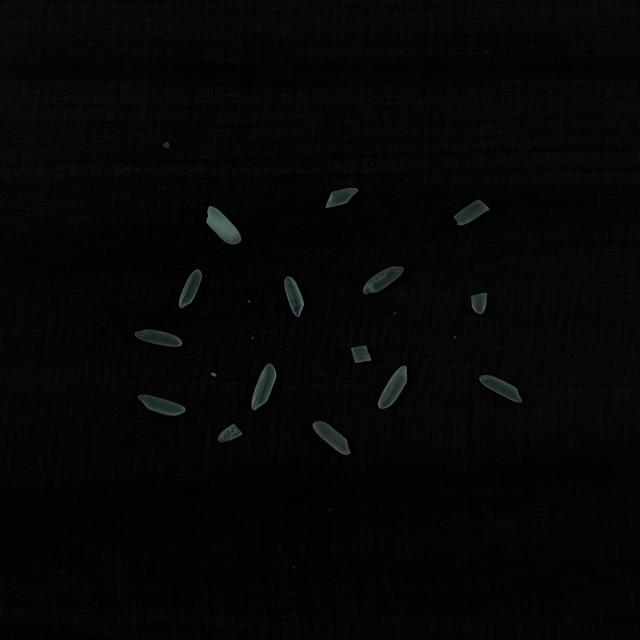Broken: (204, 206, 242, 245), (454, 200, 489, 225), (325, 187, 358, 208), (218, 423, 243, 443), (351, 345, 371, 363), (471, 292, 487, 314)
Full: (378, 366, 408, 410), (312, 422, 350, 456), (251, 363, 277, 411), (479, 375, 522, 403), (363, 266, 404, 295), (138, 394, 186, 416), (135, 328, 182, 348), (179, 270, 202, 308), (284, 276, 304, 318)
